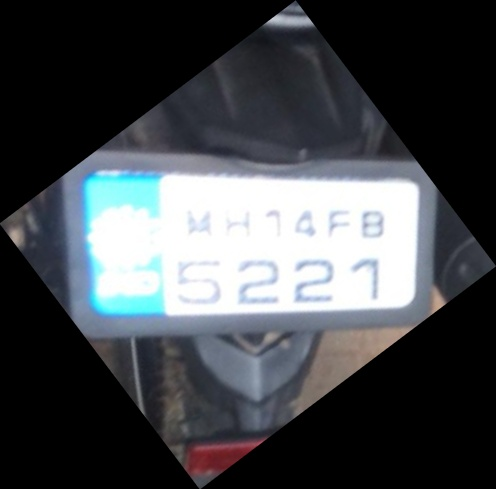character: (234, 256, 280, 307), (175, 254, 221, 304), (292, 255, 333, 306), (348, 256, 379, 301)
